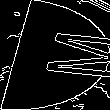M_W: (6, 28, 104, 82)
